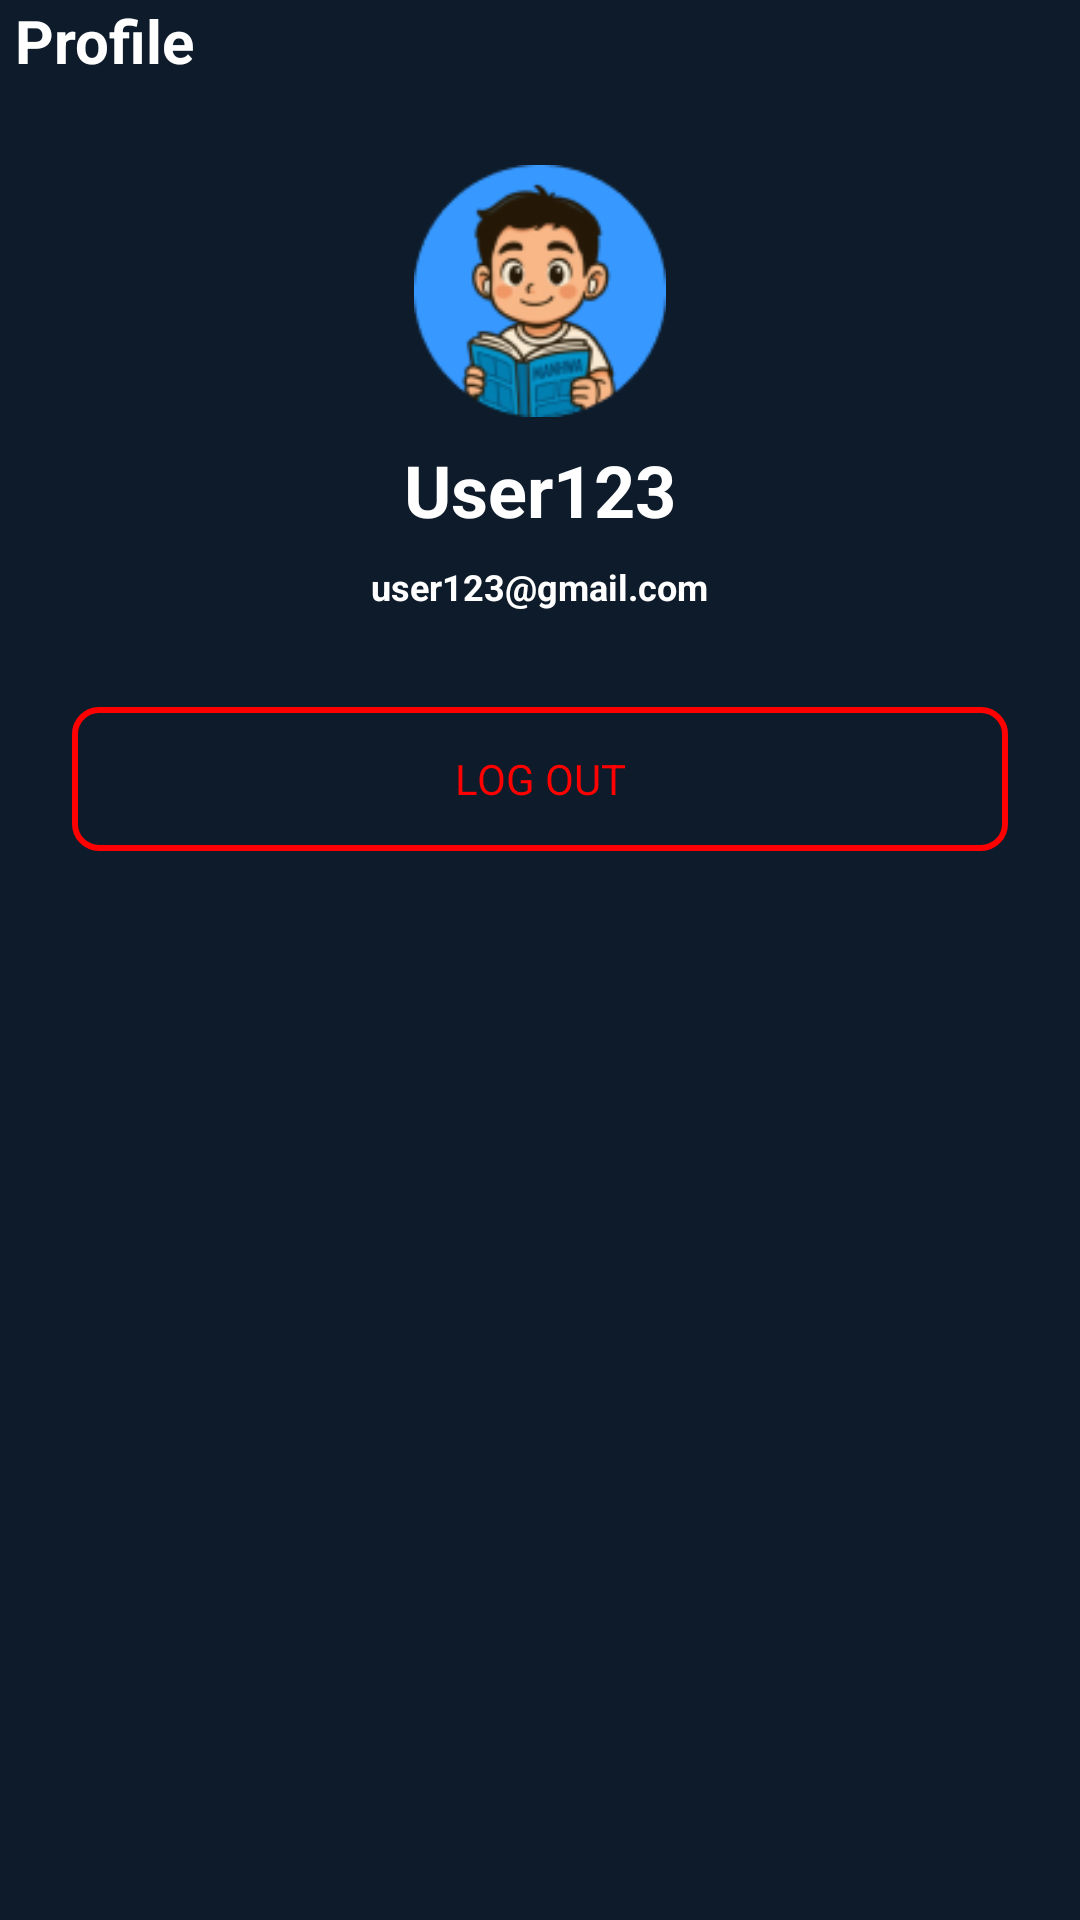

Locate icon controls on the screen. Image size 1080 × 1920, boxes as (x1, y1, x2, y2).
profile: (414, 165, 666, 417)
